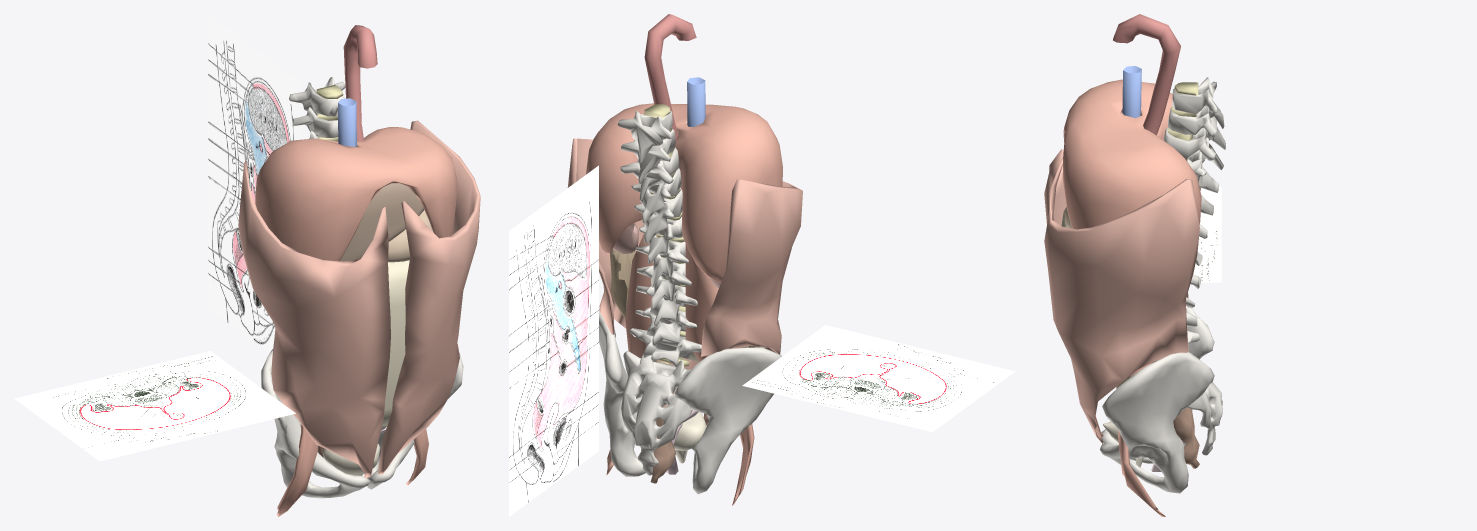
Rendered from GreaterSacDraco-processed.glb.
The picture shows the model from 3 angles, left to right: view 1: azimuth 30°, elevation 25°; view 2: azimuth 150°, elevation 25°; view 3: azimuth 270°, elevation 25°; orthographic projection. The views are drawn at different scales.
Parts seen in each view (by area): view 1: Transversus Abdominis, Grays_Sagittal, Diaphragm, Grays_Transverse, Pubic Bone, Liver, Greater_Omentum, Spine, Aorta, Psoas Major, Inferior_Vena_Cava, Stomach (+1 smaller); view 2: Grays_Sagittal, Diaphragm, Grays_Transverse, Transversus Abdominis, Spine, Pubic Bone, Sacrum, Psoas Major, Aorta, Large Bowel, Bladder Female, Inferior_Vena_Cava (+1 smaller); view 3: Transversus Abdominis, Diaphragm, Pubic Bone, Spine, Aorta, Grays_Transverse, Sacrum, Inferior_Vena_Cava, Rectum, Psoas Major.
Part boxes in pixels (x1,y1,x2,y2): Transversus Abdominis: (238, 120, 480, 478); Grays_Sagittal: (208, 14, 300, 353); Diaphragm: (255, 127, 457, 261); Grays_Transverse: (14, 351, 295, 461); Pubic Bone: (261, 349, 463, 498); Liver: (340, 183, 424, 261); Greater_Omentum: (382, 260, 409, 426); Spine: (289, 77, 345, 141); Aorta: (343, 25, 377, 141); Psoas Major: (276, 424, 428, 516); Inferior_Vena_Cava: (338, 98, 356, 146); Stomach: (388, 210, 433, 262); Grays_Sagittal: (509, 165, 598, 516); Diaphragm: (586, 103, 782, 282); Grays_Transverse: (742, 325, 1015, 432); Transversus Abdominis: (567, 138, 802, 425); Spine: (617, 104, 701, 367); Pubic Bone: (599, 308, 781, 494); Sacrum: (621, 351, 692, 475); Psoas Major: (606, 233, 754, 505); Aorta: (644, 14, 696, 140); Large Bowel: (609, 249, 760, 391); Bladder Female: (673, 412, 705, 463); Inferior_Vena_Cava: (687, 77, 705, 126); Transversus Abdominis: (1044, 149, 1199, 443); Diaphragm: (1062, 79, 1201, 229); Pubic Bone: (1100, 305, 1214, 493); Spine: (1163, 77, 1225, 343); Aorta: (1113, 14, 1180, 135); Grays_Transverse: (1193, 187, 1221, 282); Sacrum: (1186, 352, 1222, 455); Inferior_Vena_Cava: (1122, 66, 1141, 117); Rectum: (1173, 407, 1199, 468); Psoas Major: (1117, 361, 1165, 516).
Size of the model in its own units: 5.55 by 6.24 by 4.97.
26 materials, 2 textured.
